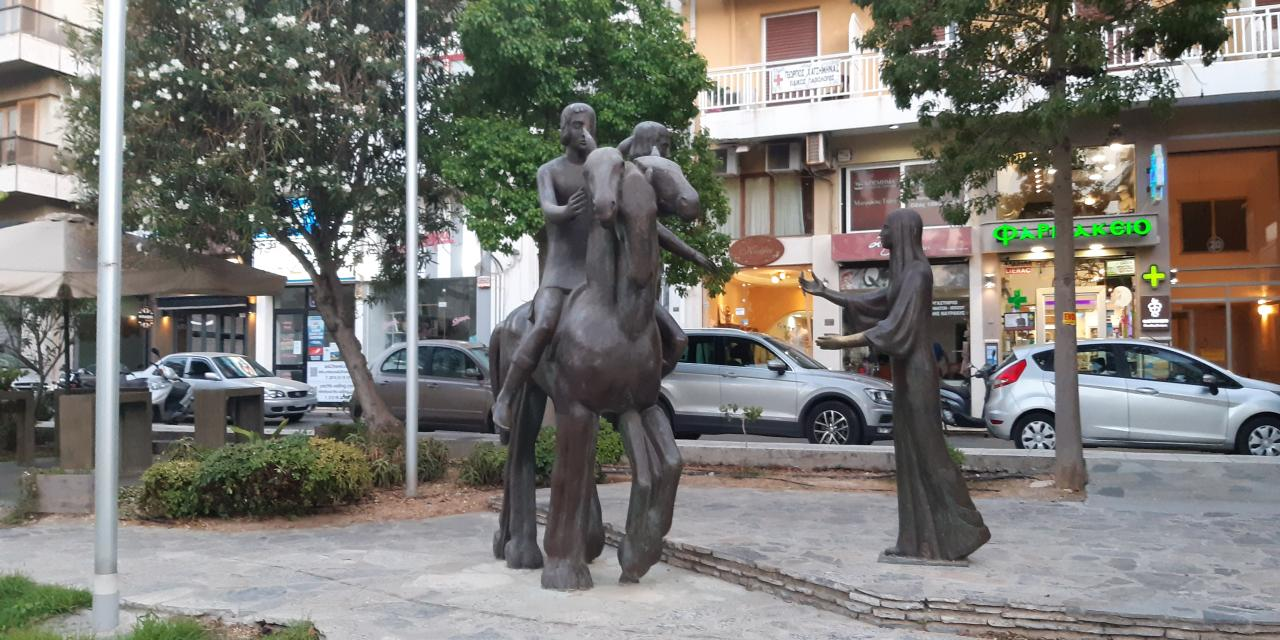Aretousa: (490, 104, 991, 593)
